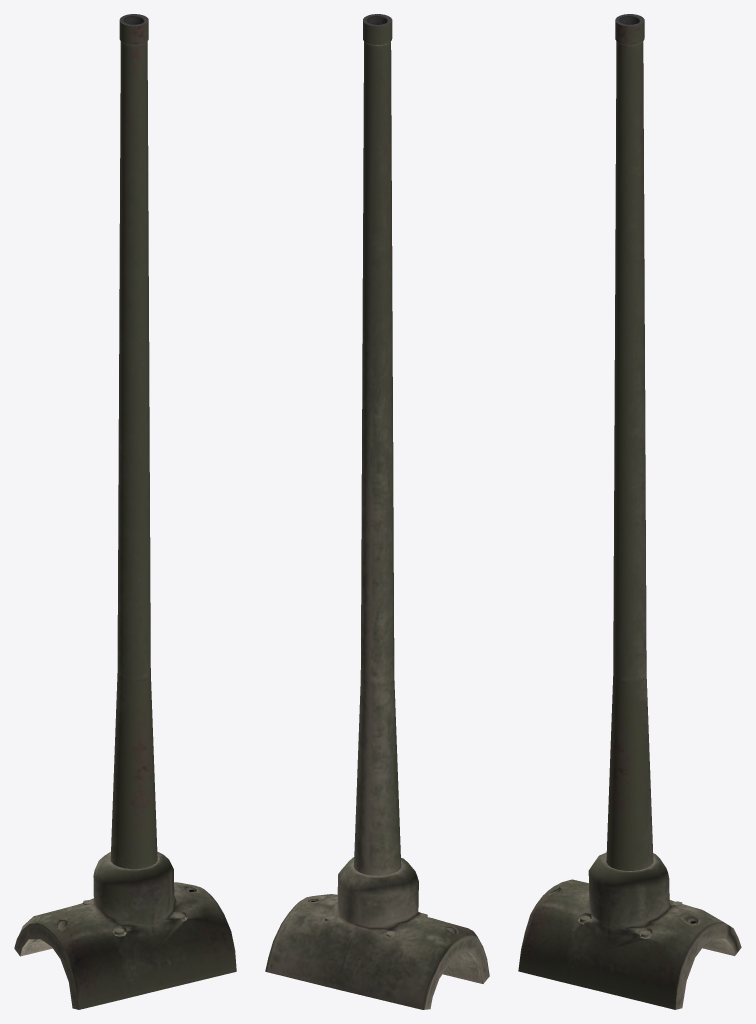
Rendered from Gun_04.glb.
3 views of the same model, side by side, from view 1: azimuth 30°, elevation 25°; view 2: azimuth 150°, elevation 25°; view 3: azimuth 330°, elevation 25° (orthographic).
Parts seen in each view (by area): view 1: set_0_group_0; view 2: set_0_group_0; view 3: set_0_group_0.
Part boxes in pixels (bbox=[...]): set_0_group_0: bbox=[14, 14, 236, 1009]; set_0_group_0: bbox=[265, 14, 489, 1009]; set_0_group_0: bbox=[518, 14, 741, 1009].
Size of the model in its own units: 0.7669 by 4.44 by 0.5617.
1 material, 1 textured.
